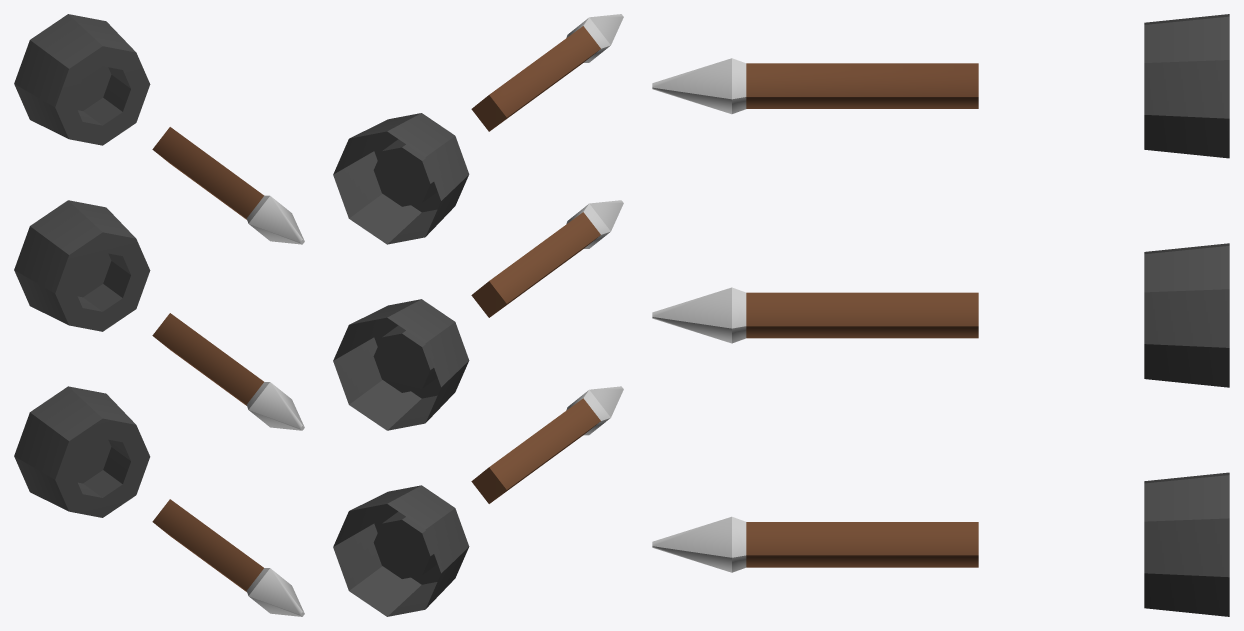
The model's file is Arrows_2_Trap.fbx.
The picture shows the model from 3 angles, left to right: view 1: azimuth 30°, elevation 25°; view 2: azimuth 150°, elevation 25°; view 3: azimuth 270°, elevation 25°; orthographic projection. The views are drawn at different scales.
Parts seen in each view (by area): view 1: Arrows_2_Trap, Arrows_2; view 2: Arrows_2_Trap, Arrows_2; view 3: Arrows_2, Arrows_2_Trap.
Boxes of the visible parts, x1,y1,x2,y2 form: Arrows_2_Trap: (14, 14, 150, 517); Arrows_2: (152, 127, 304, 616); Arrows_2_Trap: (333, 113, 469, 616); Arrows_2: (471, 14, 623, 503); Arrows_2: (652, 58, 978, 572); Arrows_2_Trap: (1144, 14, 1229, 616).
Size of the model in its own units: 19.37 by 83.07 by 72.7.
Materials: 1 (1 with a texture image).
